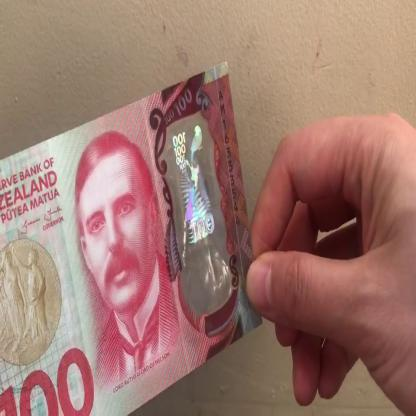100F: (169, 122, 230, 290)
